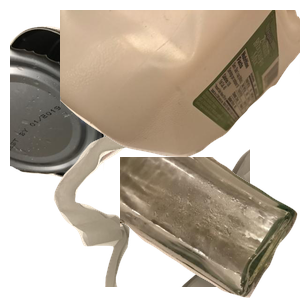glass: (120, 157, 300, 300)
metal: (10, 23, 193, 194)
plastic: (60, 10, 300, 160)
trash: (51, 120, 291, 300)
